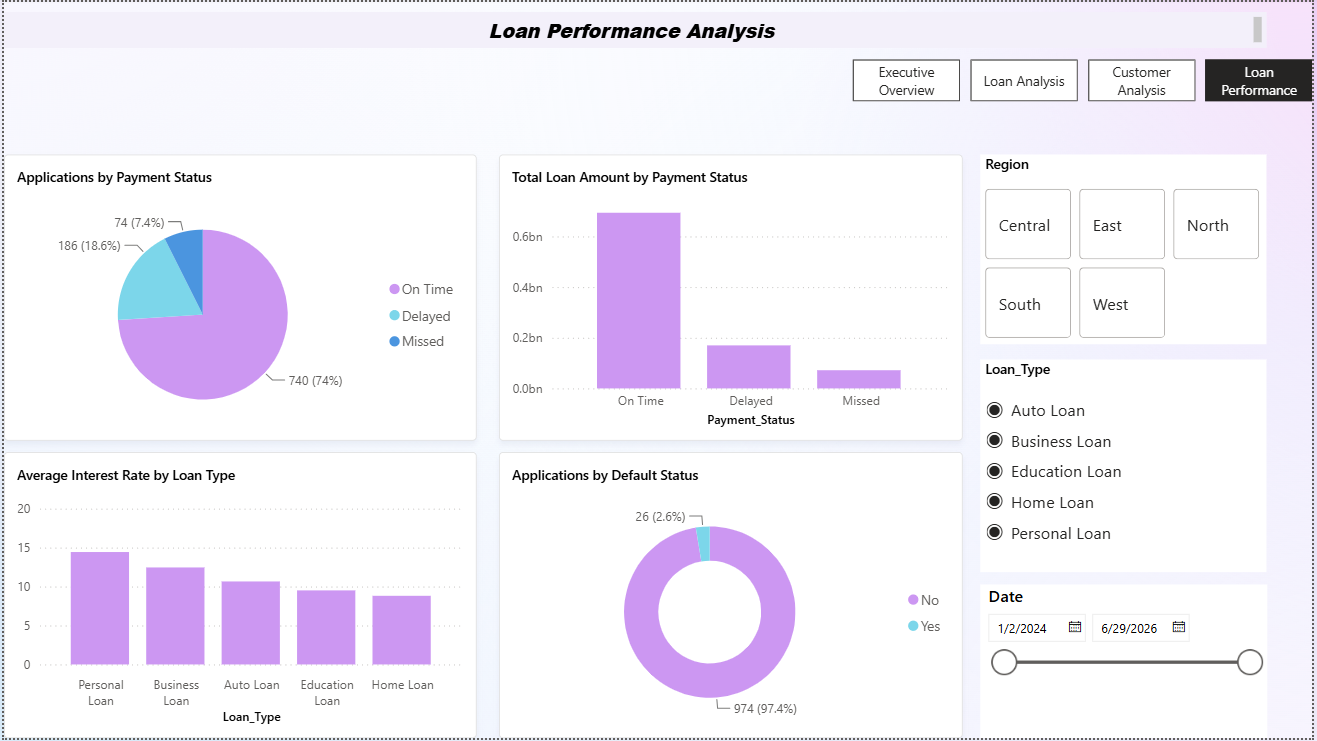

This screenshot's page, from the dashboard's own definition file:
{"tool":"powerbi","page":{"name":"Loan Performance","canvas":[1280,720],"ordinal":3},"visuals":[{"type":"pieChart","title":"Applications by Payment Status","fields":{"Category":["Fact_Loans.Payment_Status"],"Y":["Fact_Loans.Total Applications"]},"box":[0,149.2,462.2,280],"z":0},{"type":"lineClusteredColumnComboChart","title":"Average Interest Rate by Loan Type","fields":{"Category":["Fact_Loans.Loan_Type"],"Y":["Avg(Fact_Loans.Interest_Rate)"]},"box":[0,440.2,462.2,280],"z":1000},{"type":"lineClusteredColumnComboChart","title":"Total Loan Amount by Payment Status","fields":{"Category":["Fact_Loans.Payment_Status"],"Y":["Sum(Fact_Loans.Loan_Amount)"]},"box":[484.2,149.2,453.7,280],"z":2000},{"type":"donutChart","title":"Applications by Default Status","fields":{"Category":["Fact_Loans.Default_Status"],"Y":["Fact_Loans.Total Applications"]},"box":[484.2,440.2,453.7,280],"z":3000},{"type":"advancedSlicerVisual","fields":{"Values":["Dim_Branch.Region"]},"box":[955,149.2,280,185.9],"z":4000},{"type":"listSlicer","fields":{"Values":["Dim_Loantype.Loan_Type"]},"box":[955,349.7,280,207.9],"z":5000},{"type":"slicer","fields":{"Values":["Dim_Date.Date"]},"box":[955,569.8,280,150],"z":6000},{"type":"textbox","box":[0,9.8,1235.1,35.5],"z":7000},{"type":"pageNavigator","box":[830.3,56.3,450,41.6],"z":7001}]}

Visuals, with their boxes in screenshot pixels (x1, y1, x2, y2), scaled from the page's 1280x720 canvas onto the 1317x741 screenshot:
"Applications by Payment Status" pieChart: (left=0, top=154, right=476, bottom=442)
"Average Interest Rate by Loan Type" lineClusteredColumnComboChart: (left=0, top=453, right=476, bottom=740)
"Total Loan Amount by Payment Status" lineClusteredColumnComboChart: (left=498, top=154, right=965, bottom=442)
"Applications by Default Status" donutChart: (left=498, top=453, right=965, bottom=740)
advancedSlicerVisual - Dim_Branch.Region: (left=983, top=154, right=1271, bottom=345)
listSlicer - Dim_Loantype.Loan_Type: (left=983, top=360, right=1271, bottom=574)
slicer - Dim_Date.Date: (left=983, top=586, right=1271, bottom=740)
textbox: (left=0, top=10, right=1271, bottom=47)
pageNavigator: (left=854, top=58, right=1316, bottom=101)
